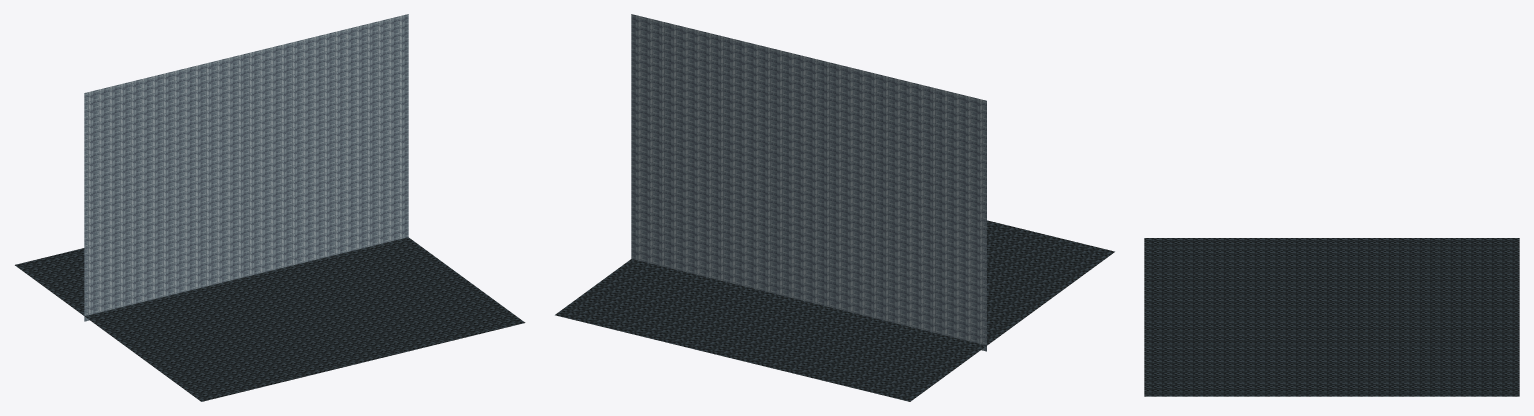
File: floorAndWall.fbx
3 views of the same model, side by side, from view 1: azimuth 30°, elevation 25°; view 2: azimuth 150°, elevation 25°; view 3: azimuth 270°, elevation 25° (orthographic). The views are drawn at different scales.
Visible parts, largest first — view 1: wall, floor; view 2: wall, floor; view 3: floor.
Part boxes in pixels (box(x1,y1,x2,y2)): wall: box(84, 14, 408, 321); floor: box(15, 237, 525, 401); wall: box(631, 14, 986, 351); floor: box(555, 220, 1114, 401); floor: box(1144, 238, 1519, 396).
Bounding box in the file's own units: 29599 × 29599 × 19953.
Materials: 2 (2 with a texture image).
